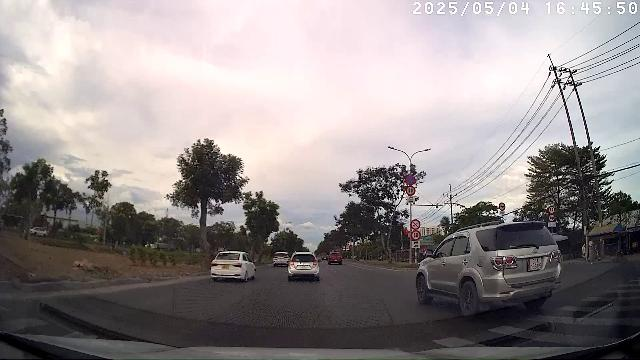127-toc-do-toi-da-50: (548, 206, 554, 214)
127-toc-do-toi-da-60: (412, 230, 421, 240)
130-cam-dung-va-do-xe: (405, 176, 415, 184)
